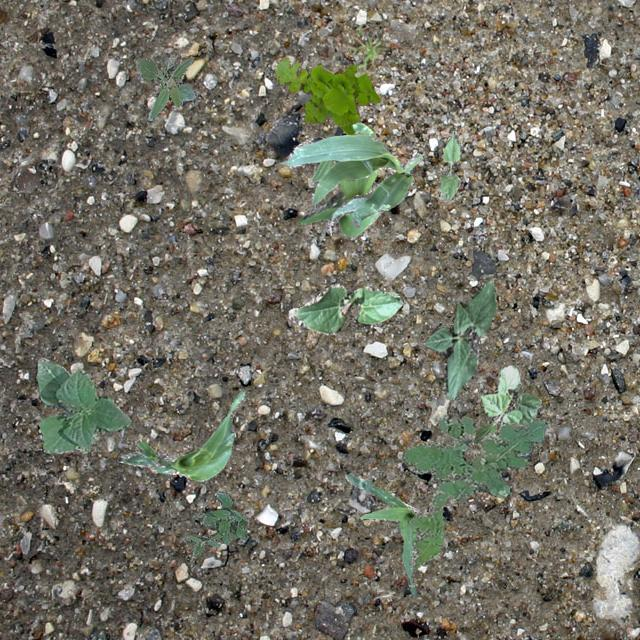crop: (298, 122, 422, 238), (278, 132, 414, 232), (116, 388, 244, 481), (344, 474, 424, 596), (36, 356, 130, 452), (424, 278, 496, 399), (288, 282, 402, 334), (474, 364, 540, 444), (436, 130, 461, 200)
weed: (402, 416, 546, 568), (274, 56, 378, 134), (132, 54, 195, 120), (188, 490, 246, 558), (346, 22, 386, 76)
